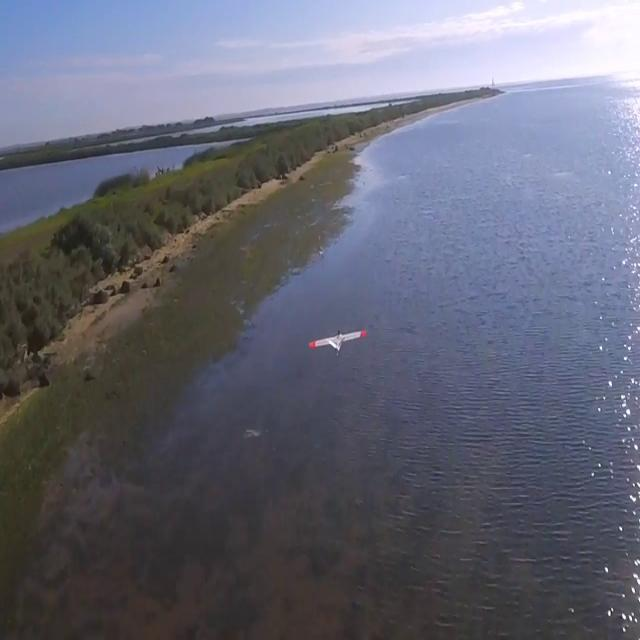iha: (310, 330, 367, 356)
